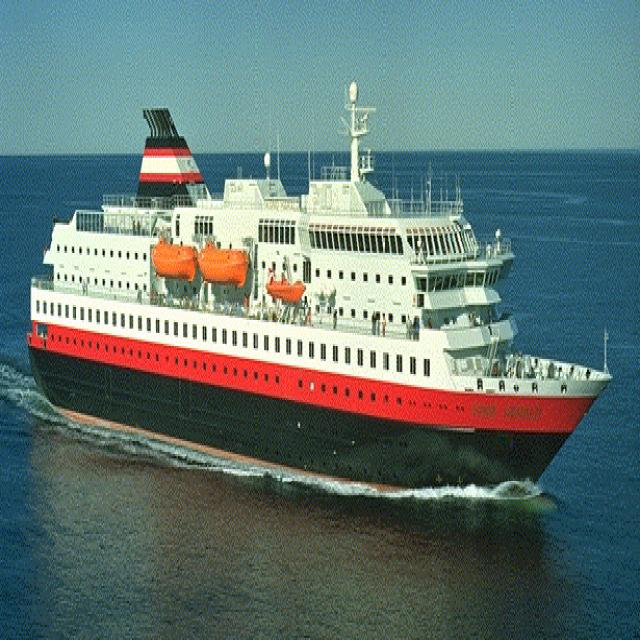PassengerShip: (22, 112, 618, 526)
